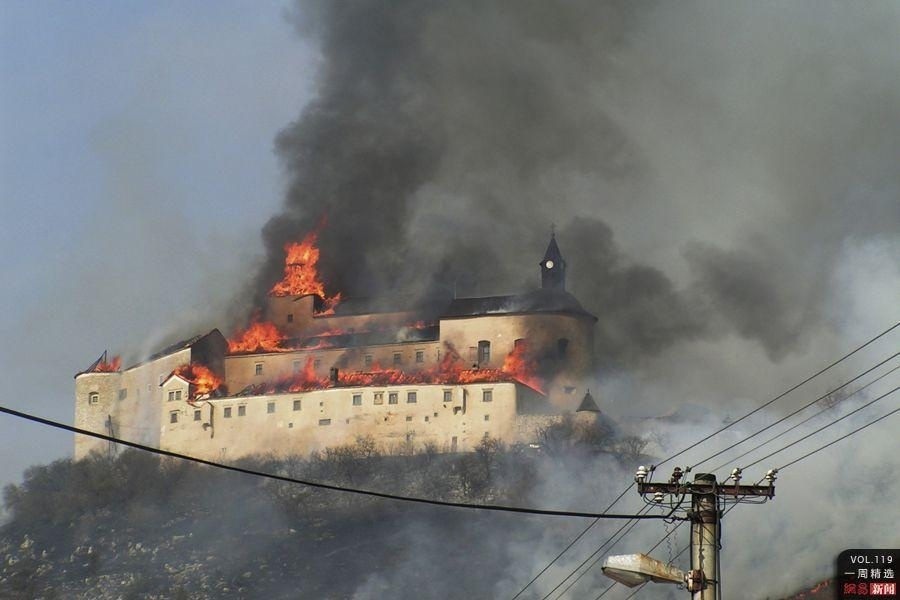fire: (271, 234, 328, 302), (229, 319, 285, 352), (185, 364, 221, 394)
